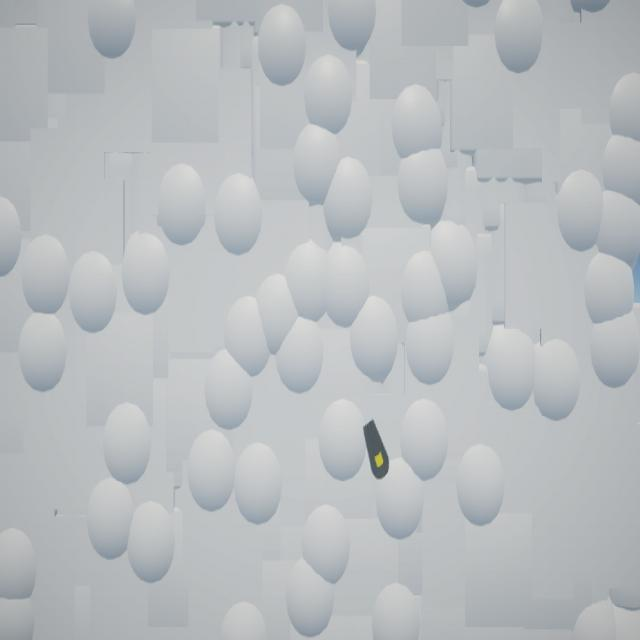handle_folk: (364, 419, 390, 481)
